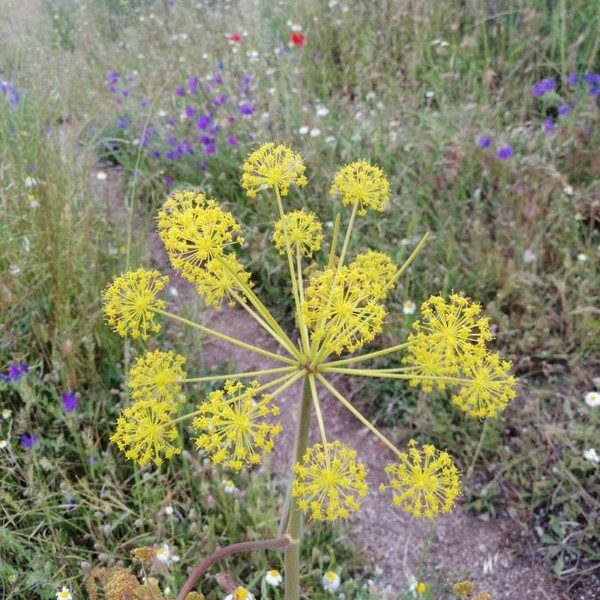obstacle: (116, 141, 497, 515)
